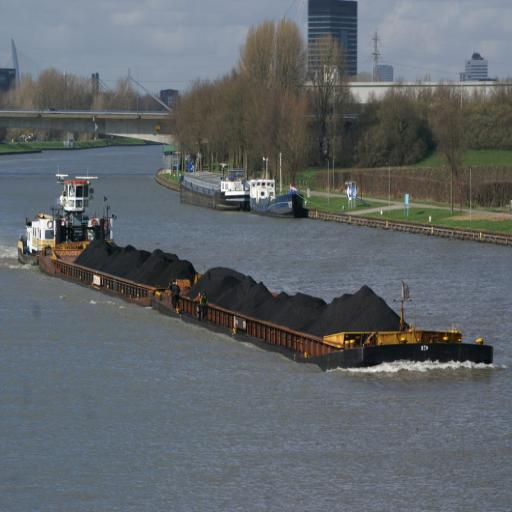tugboat: (16, 167, 120, 281)
